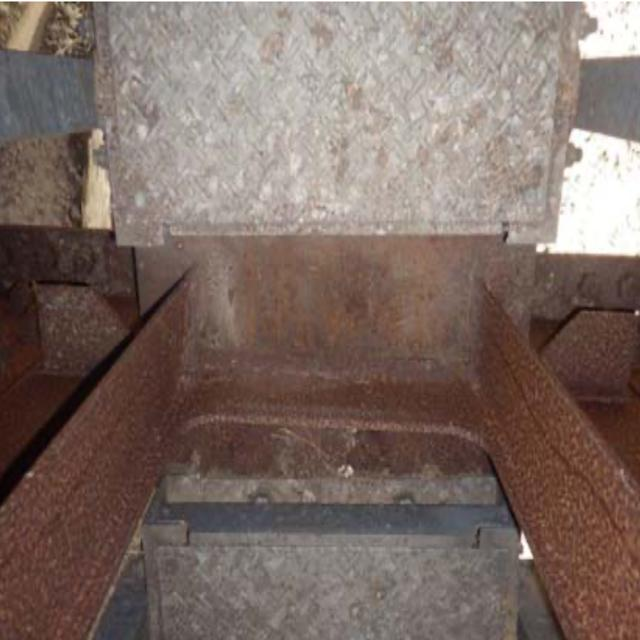corrosion: (17, 237, 640, 640)
